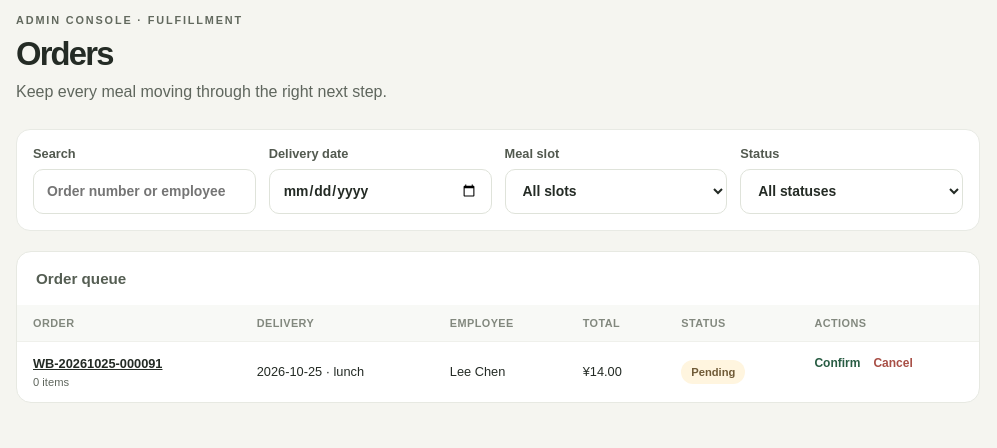
Test: Admin order transitions › offers only valid actions and sends the expected version
Expected: the button with aria-label "Cancel WB-20261025-000091" is shown, 873,356 -> 913,370
Click the button with aria-label "Confirm WB-20261025-000091" at (837, 363), box 814,356 -> 860,370
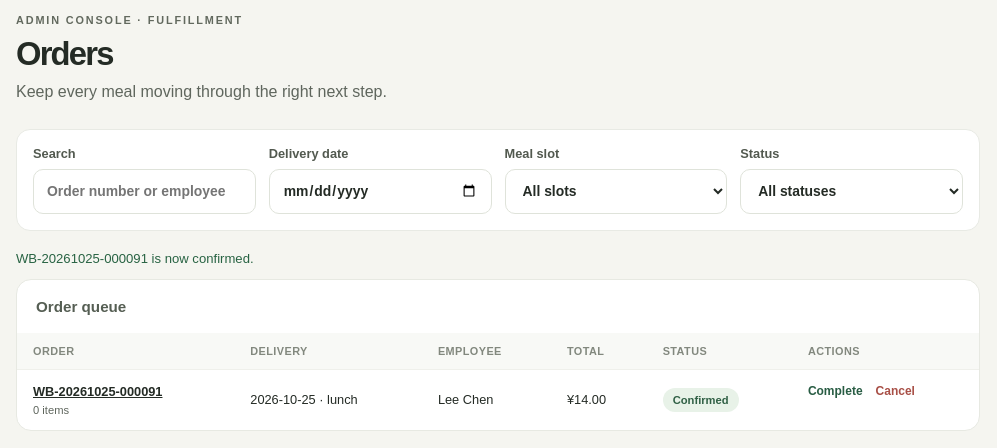
Now the text "Confirmed" is shown, box 663,388 -> 739,412
